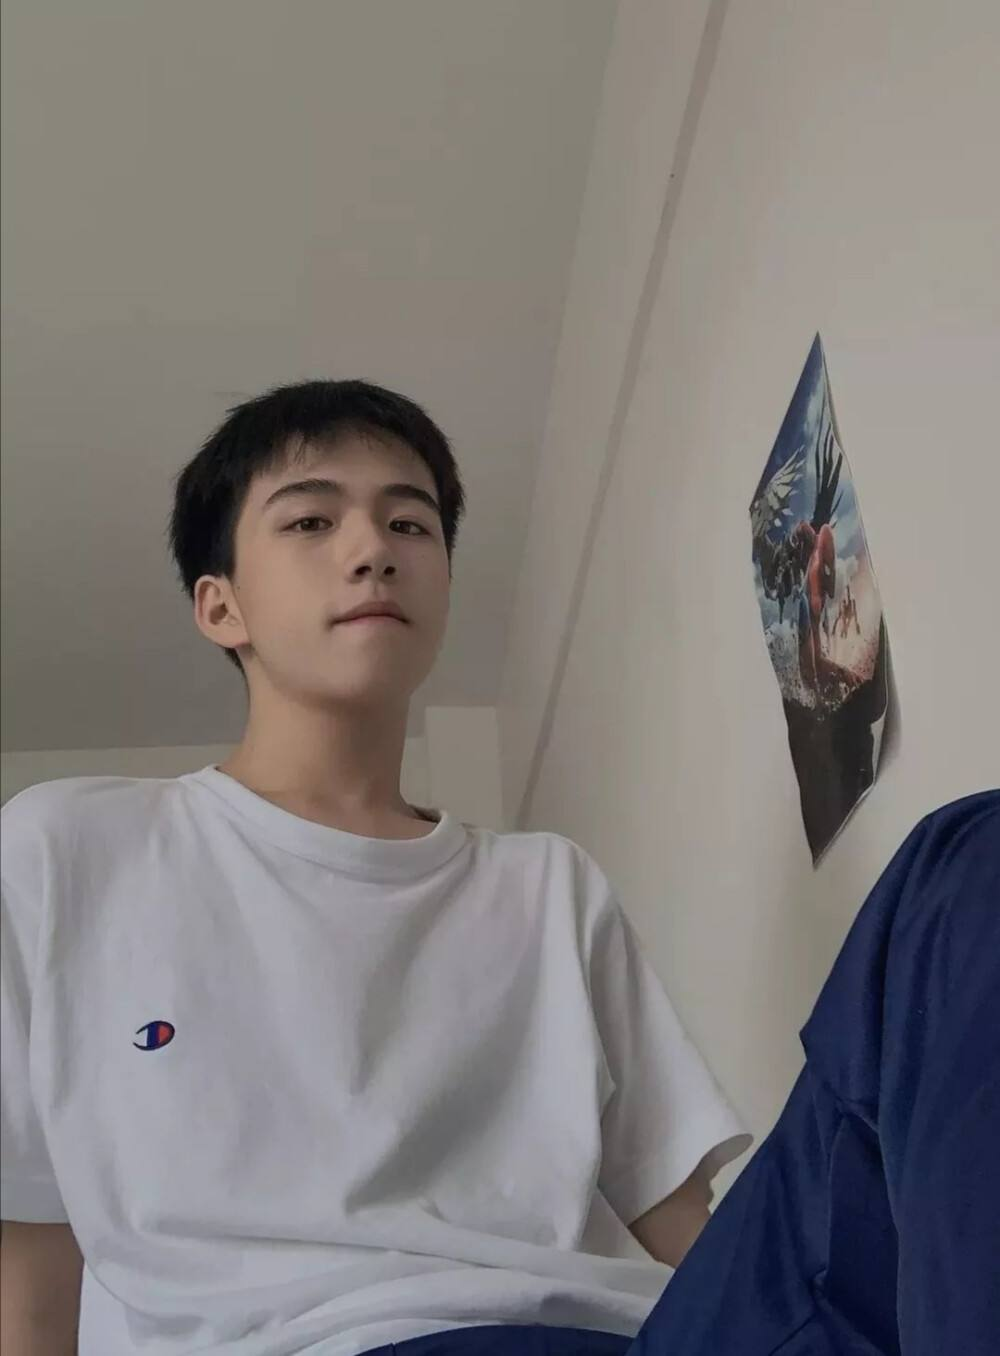person: (92, 394, 760, 1310)
